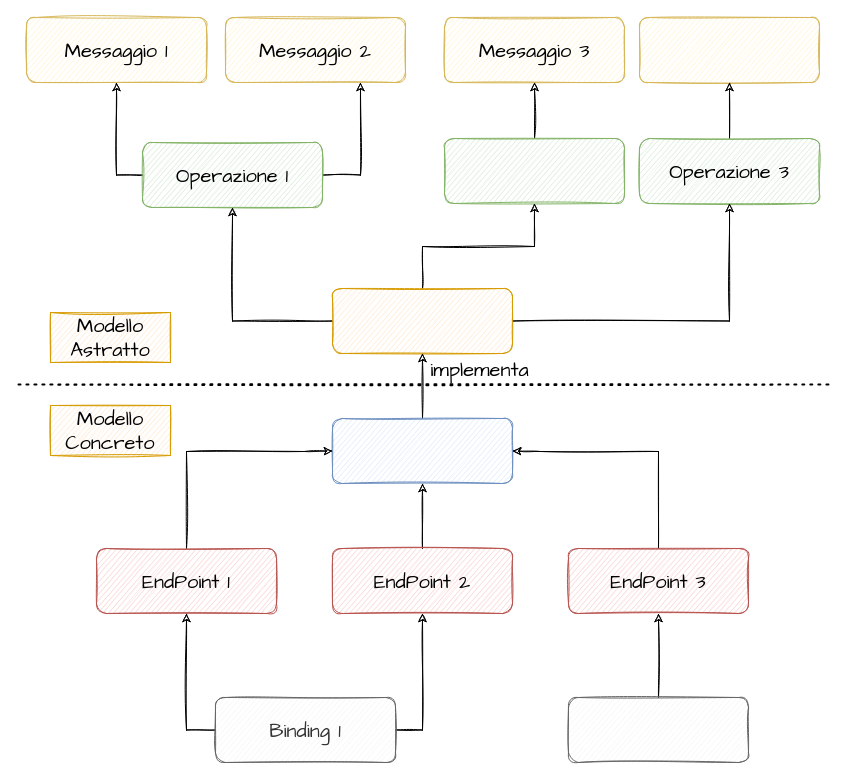
This 850x780 diagram has some shape labels left out. The shapes that lost their labels are listed below. From the top down, each one's box as (x1, y1, x2, y2) in pixels, then its label:
(638, 16, 820, 82): Messaggio 4
(444, 138, 624, 204): Operazione 2
(332, 288, 512, 354): Interfaccia 1
(332, 418, 512, 484): Servizio 1
(568, 696, 748, 762): Binding 2
